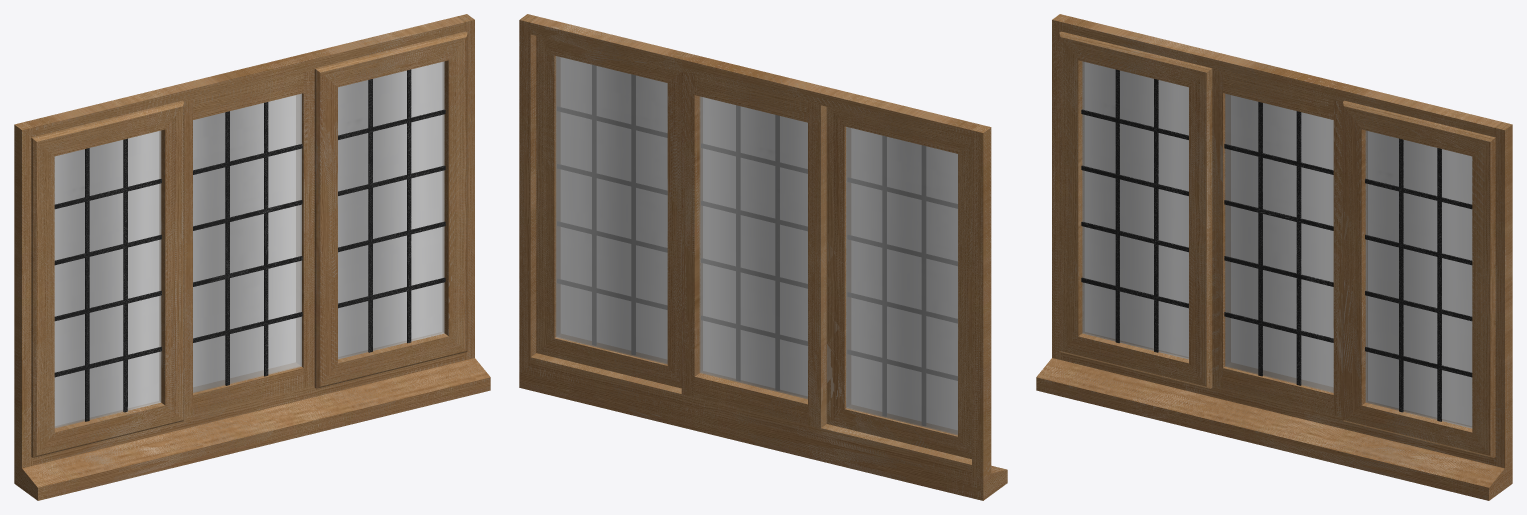
File: Window.dae
3 renders of one model, left to right at view 1: azimuth 30°, elevation 25°; view 2: azimuth 150°, elevation 25°; view 3: azimuth 330°, elevation 25°, orthographic. The views are drawn at different scales.
Parts seen in each view (by area): view 1: window3.dxf (×9); view 2: window3.dxf (×6); view 3: window3.dxf (×9).
Part boxes in pixels (x1=…): window3.dxf (×9): x1=14, y1=14, x2=490, y2=500; window3.dxf (×6): x1=519, y1=14, x2=1007, y2=500; window3.dxf (×9): x1=1036, y1=14, x2=1512, y2=500.
Size of the model in its own units: 64.95 by 5.91 by 49.21.
